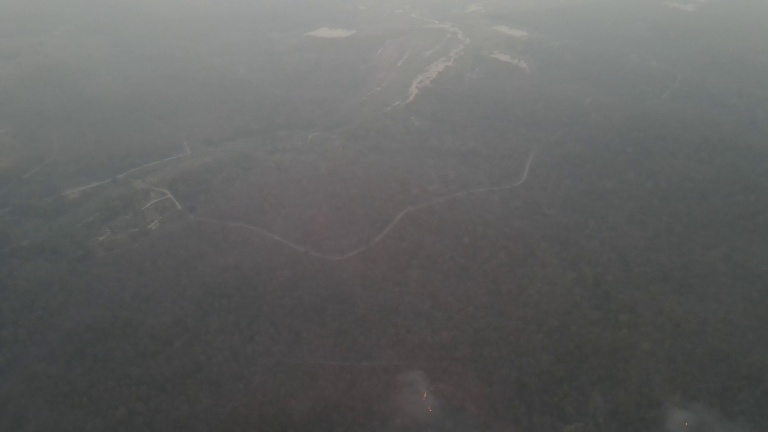fire: (420, 384, 439, 417)
smoke: (385, 366, 472, 432), (647, 387, 760, 432)
